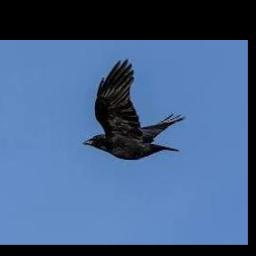Crow: (83, 58, 185, 159)
